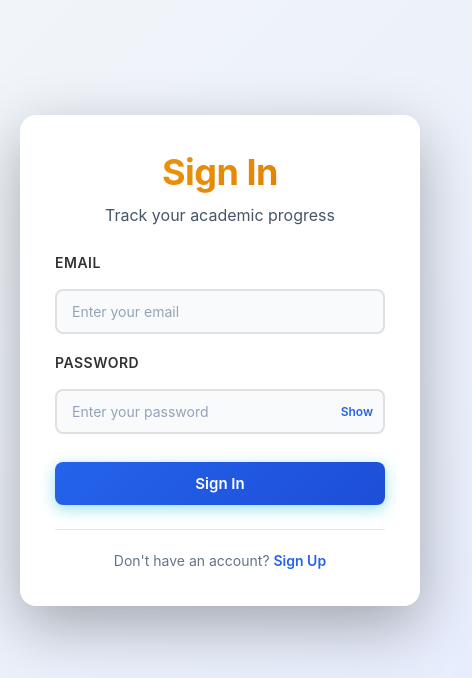
Test: Login Component › should show loading state while submitting the form
Fill in the form
Type "john@example.com" into the field with placeholder "Enter your email" at (220,311), box [55,288,385,334]
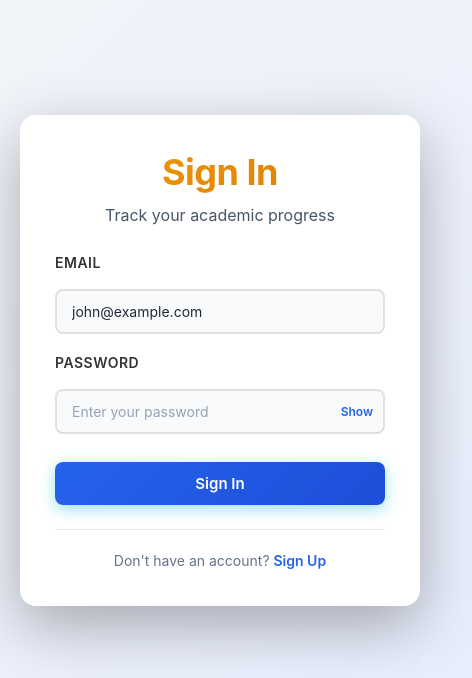
Type "password123" into the password field with placeholder "Enter your password" at (220,411), box [55,388,385,434]
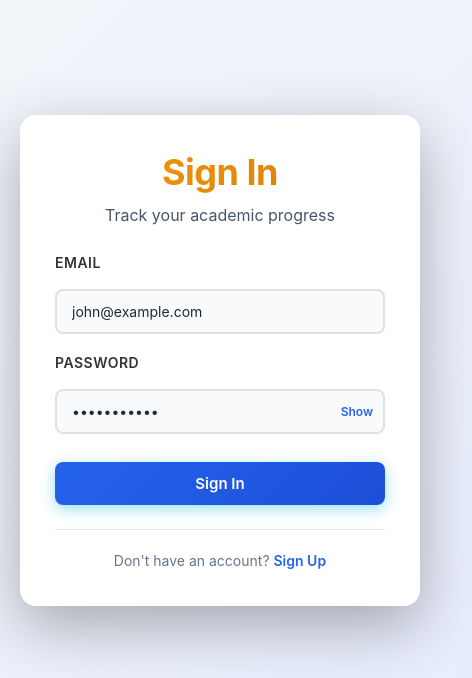
Submit the form
Click the button "Sign In" at (220,483), box [55,462,385,504]
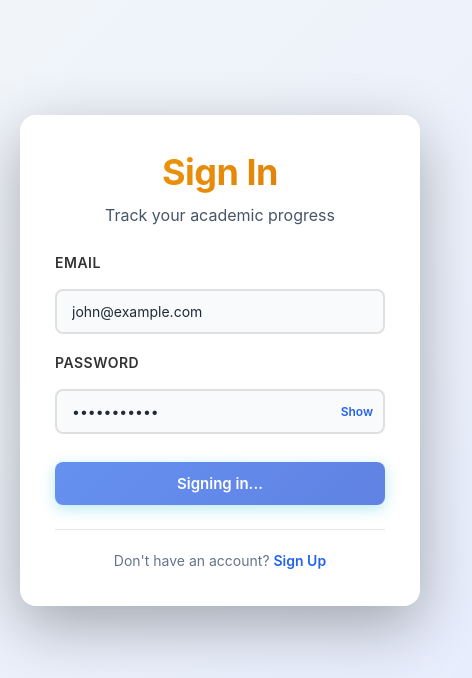
expect the button named "sign in" is disabled: met, box [55,462,385,504]
